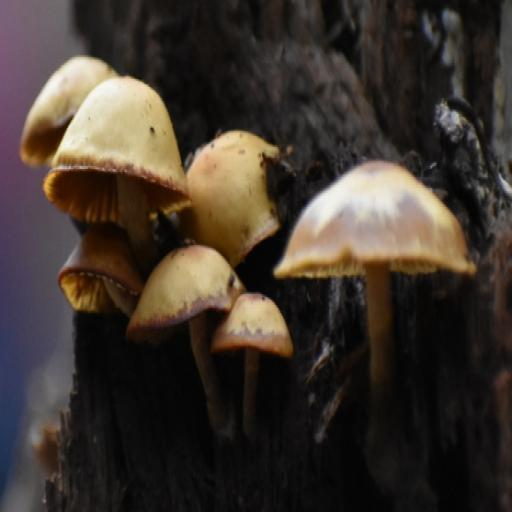mushroom: (18, 34, 489, 418)
